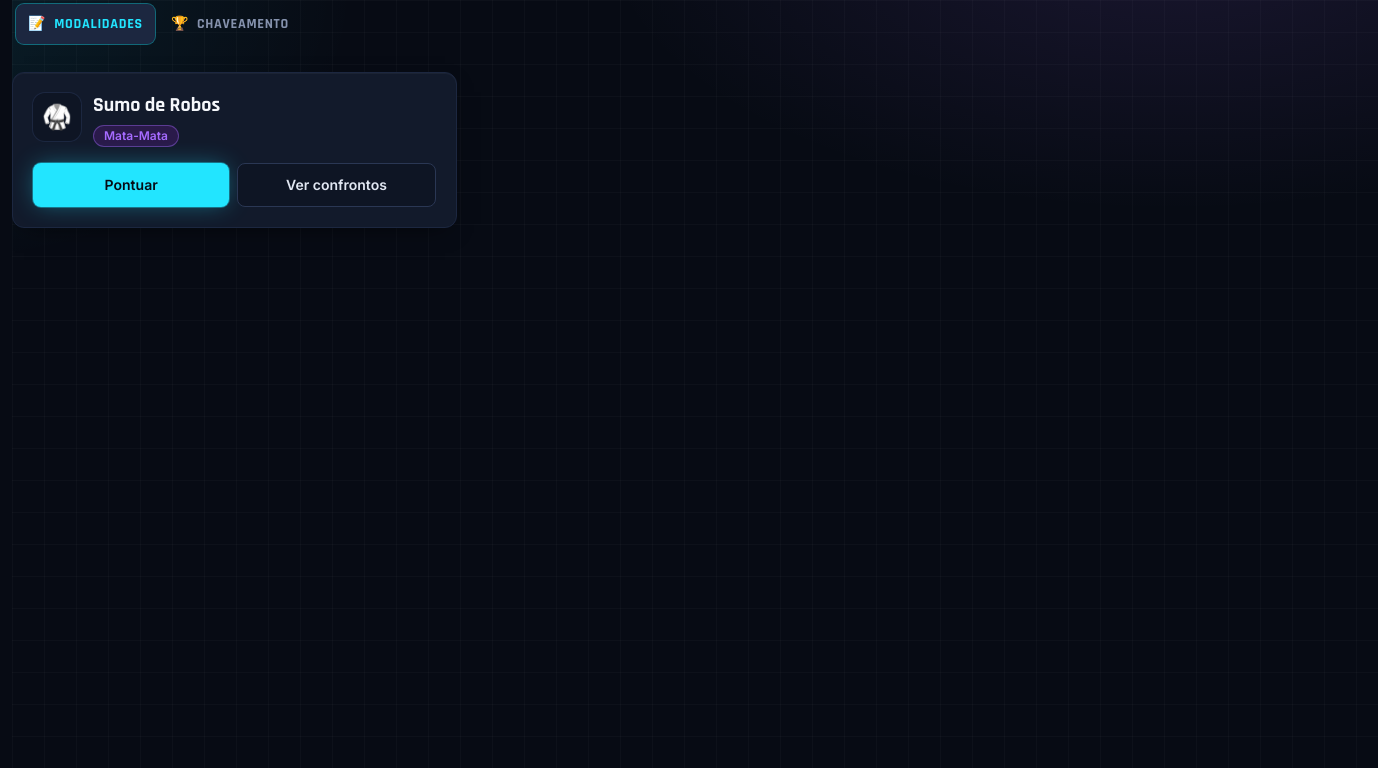
Scenario: ConfrontoHubPage › troca pra aba Chaveamento ao clicar
Click the tab "🏆 Chaveamento". click: (230, 24)
box: 159,4 -> 301,44
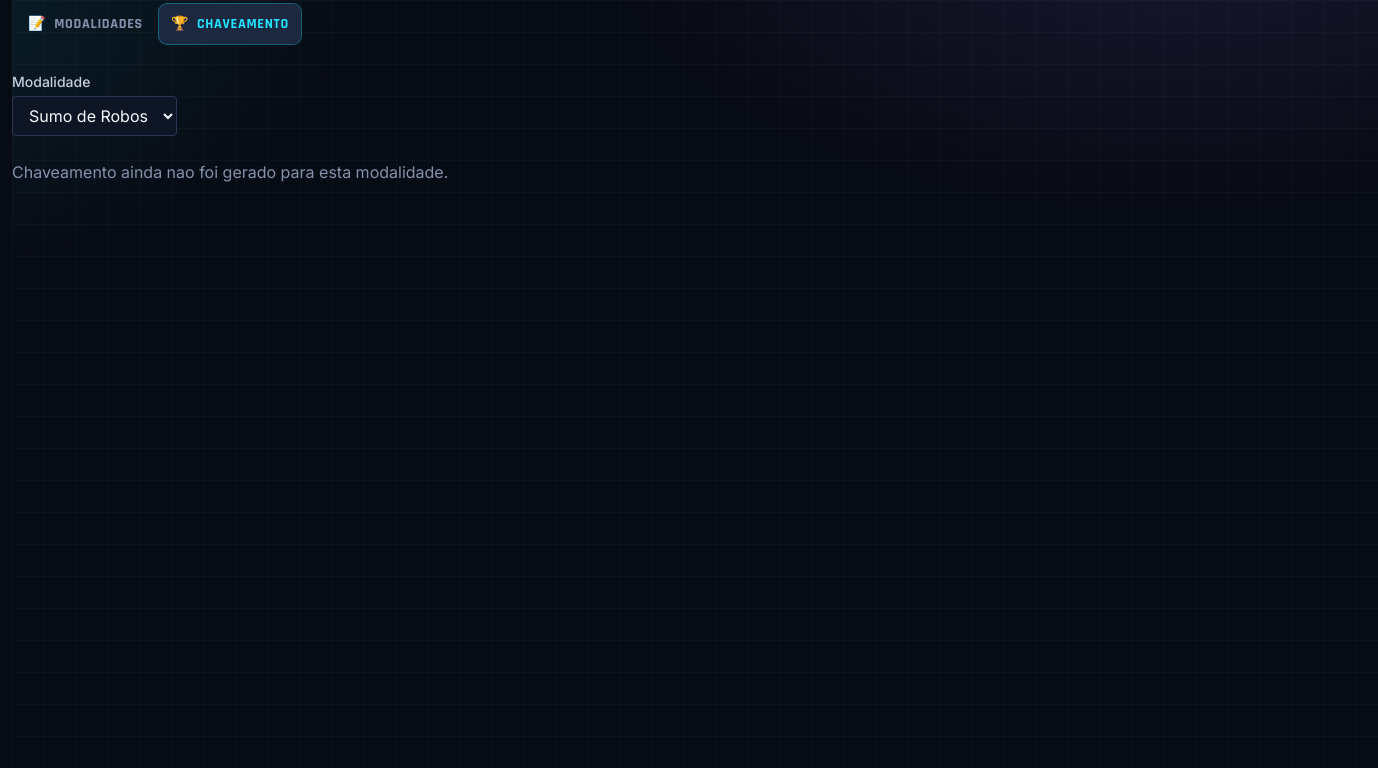
Expected: the dropdown labelled "Modalidade" is shown, 12,96 -> 177,136
